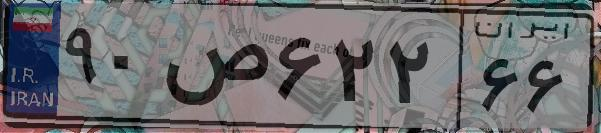0: (110, 28, 158, 98)
2: (385, 28, 445, 110), (330, 28, 385, 110)
6: (270, 28, 330, 110), (475, 38, 525, 113), (525, 38, 570, 115)
9: (57, 26, 110, 100)
ص: (158, 20, 270, 120)
